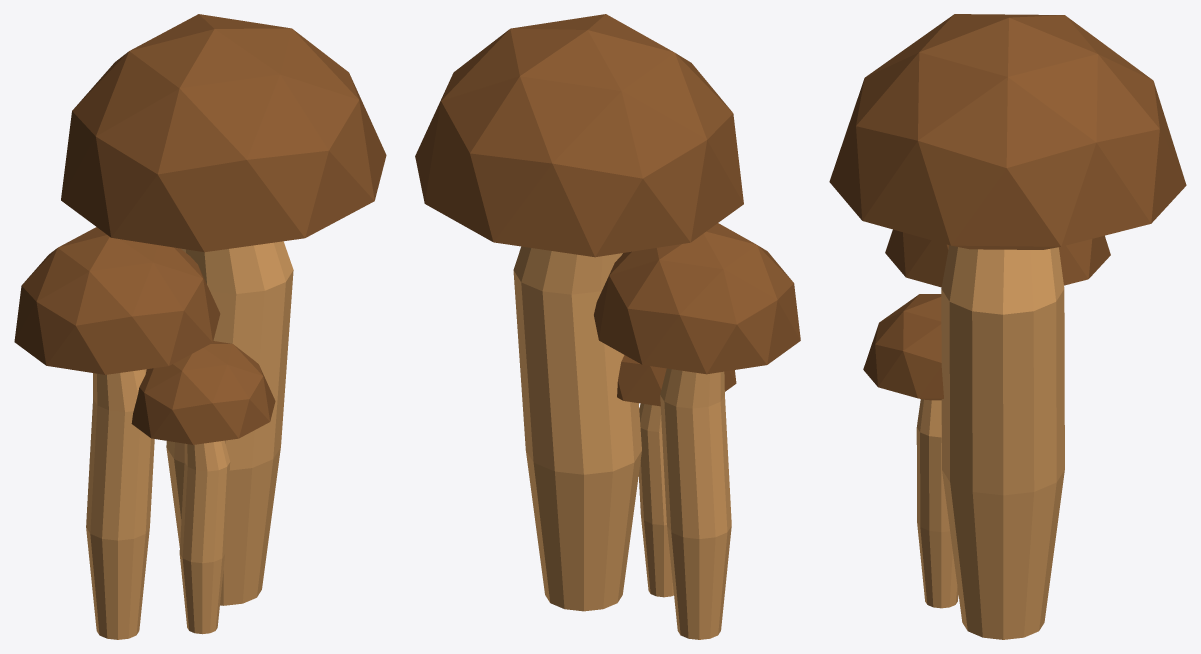
File: Camp_Mushroom2.fbx
The picture shows the model from 3 angles, left to right: view 1: azimuth 30°, elevation 25°; view 2: azimuth 150°, elevation 25°; view 3: azimuth 270°, elevation 25°; orthographic projection. The views are drawn at different scales.
Visible parts, largest first — view 1: Cylinder.007; view 2: Cylinder.007; view 3: Cylinder.007.
Boxes of the visible parts, <box> form: Cylinder.007: <box>14,14,386,639</box>; Cylinder.007: <box>415,14,800,639</box>; Cylinder.007: <box>829,14,1186,639</box>.
Bounding box in the file's own units: 31.4 × 51.2 × 27.
